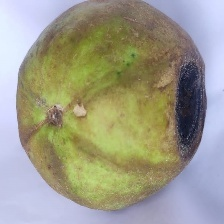guava: (5, 33, 194, 187)
